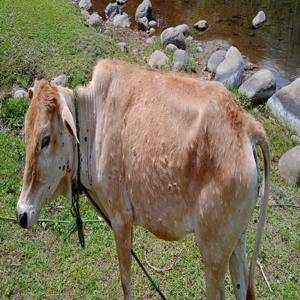lumpy skin diesease: (15, 57, 271, 299)
